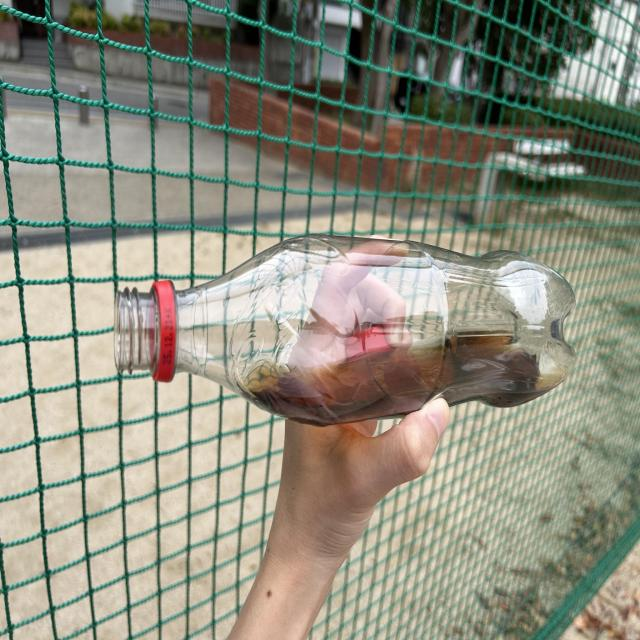medium: (115, 235, 575, 425)
